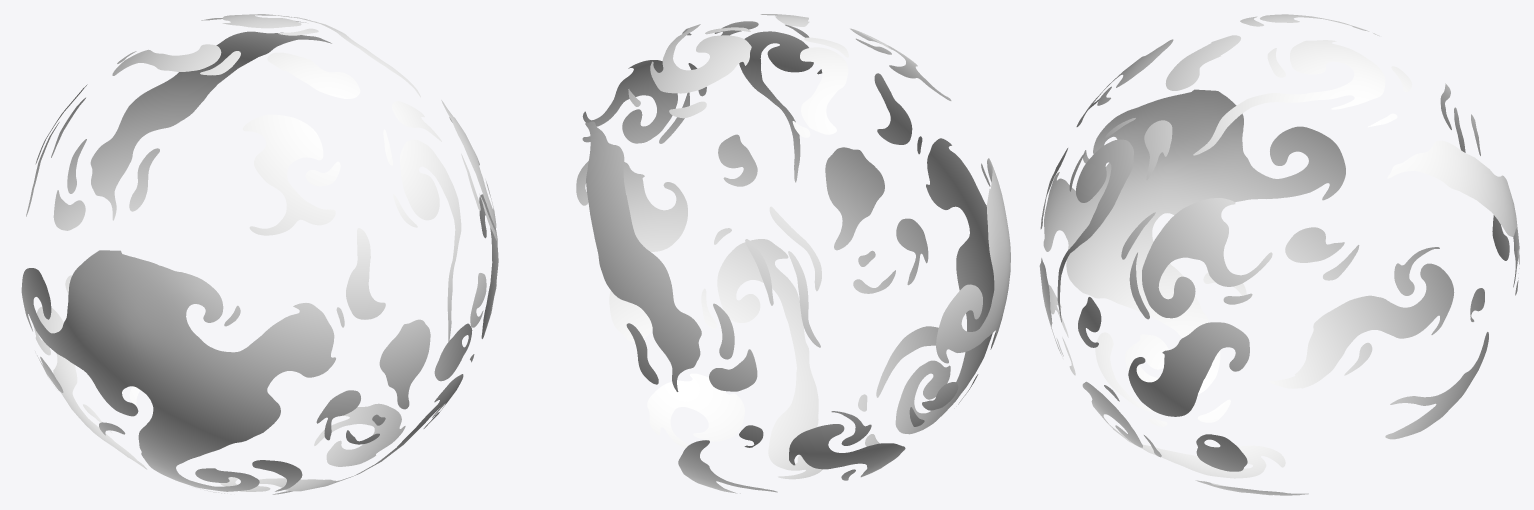
Rendered from Globe_Clouds.fbx.
3 views of the same model, side by side, from view 1: azimuth 30°, elevation 25°; view 2: azimuth 150°, elevation 25°; view 3: azimuth 270°, elevation 25° (orthographic).
Visible parts, largest first — view 1: Globe_Clouds; view 2: Globe_Clouds; view 3: Globe_Clouds.
Boxes of the visible parts, bbox=[...] form: Globe_Clouds: bbox=[21, 14, 498, 494]; Globe_Clouds: bbox=[576, 14, 1010, 493]; Globe_Clouds: bbox=[1039, 14, 1519, 495].
Bounding box in the file's own units: 526 × 524 × 523.
Materials: 1 (1 with a texture image).
